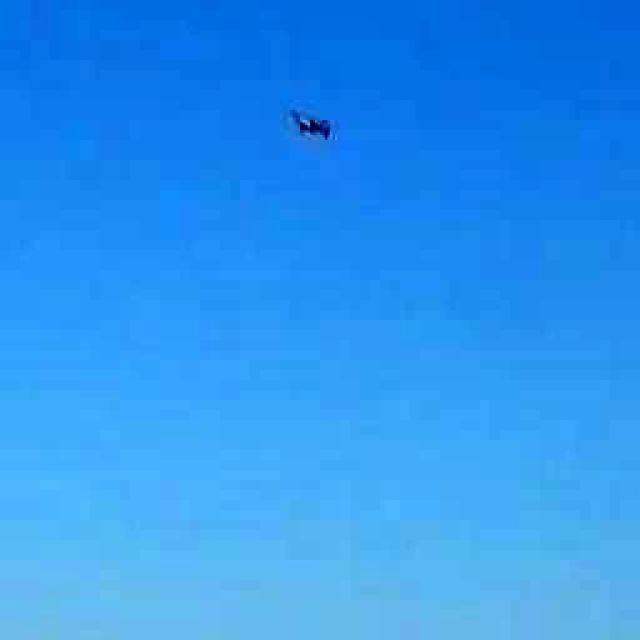bird: (261, 86, 356, 154)
